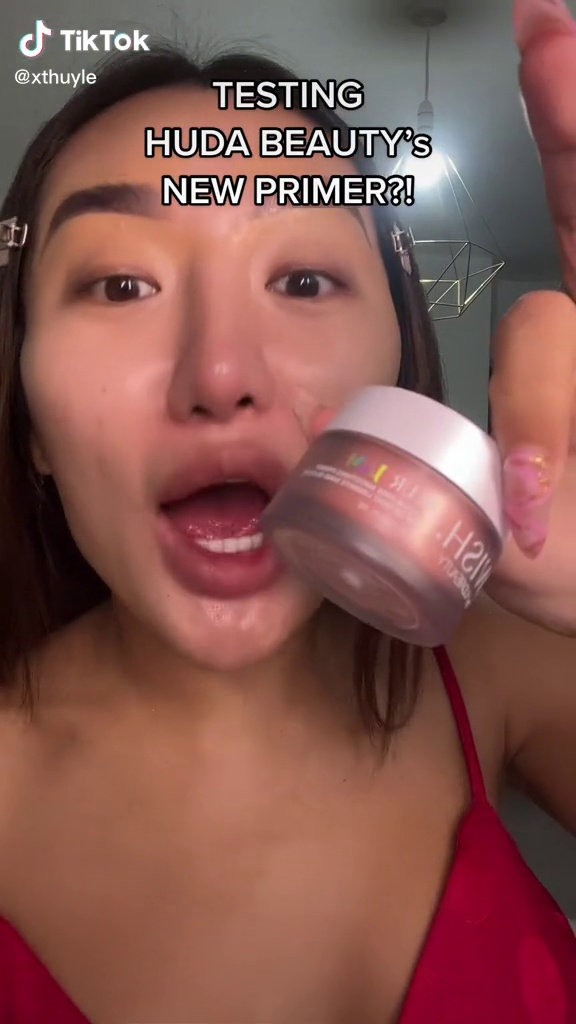train' :'yolo_data/train/images',: (243, 375, 526, 659)
